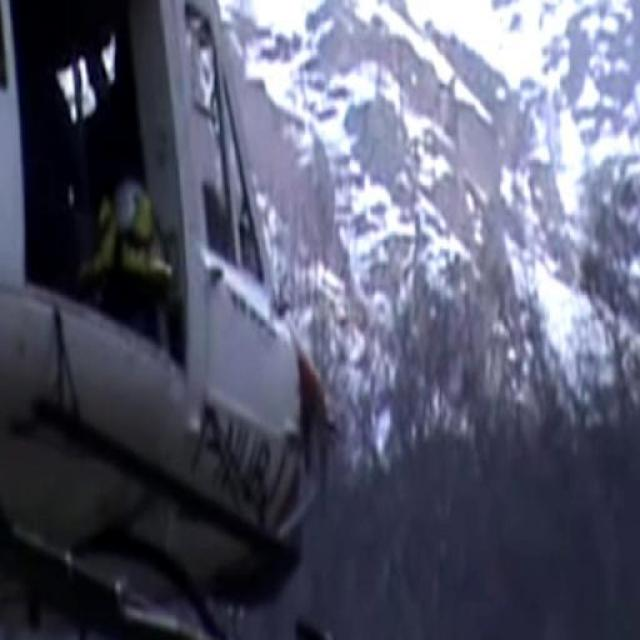drone: (0, 0, 351, 640)
